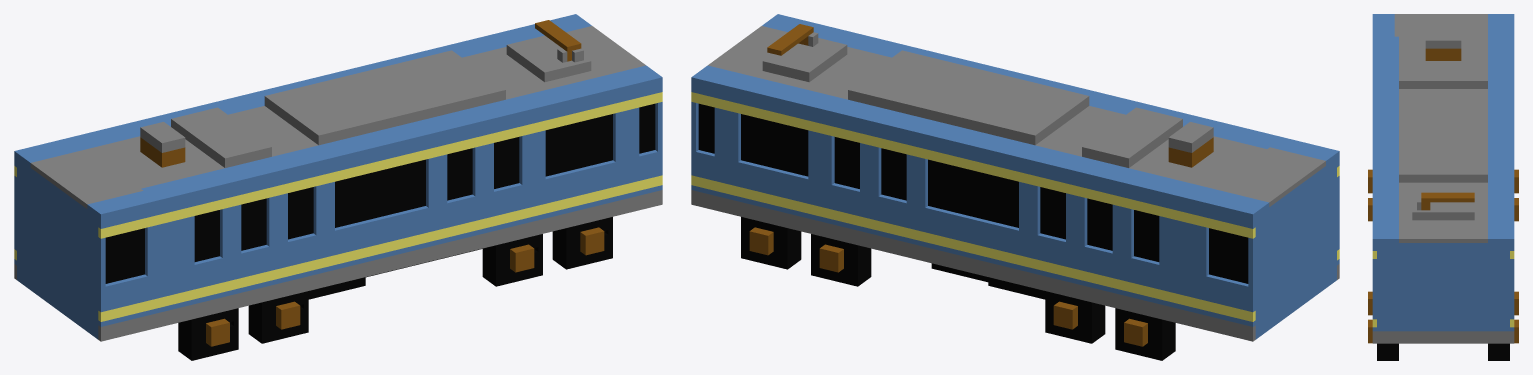
File: tren2.obj
The picture shows the model from 3 angles, left to right: view 1: azimuth 30°, elevation 25°; view 2: azimuth 150°, elevation 25°; view 3: azimuth 270°, elevation 25°; orthographic projection. The views are drawn at different scales.
Size of the model in its own units: 120 by 40 by 34.
Materials: 1 (1 with a texture image).
